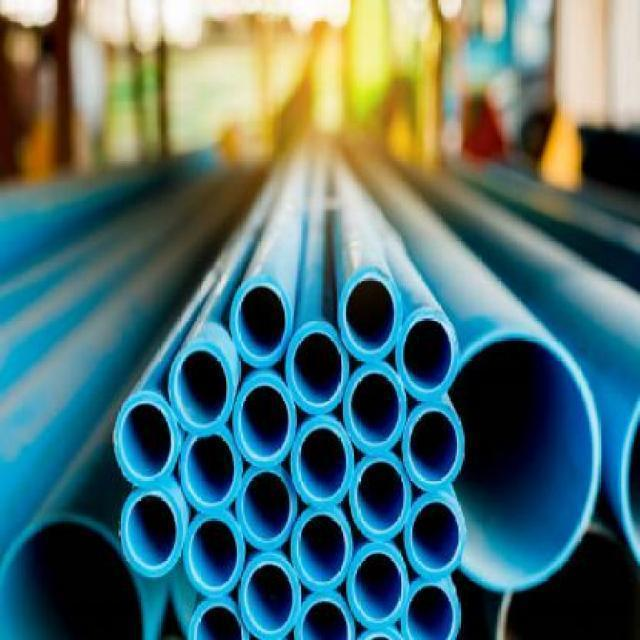pipe: (451, 333, 602, 592), (120, 484, 188, 579), (114, 391, 181, 486), (233, 371, 296, 466), (230, 275, 294, 368), (286, 322, 350, 414), (344, 363, 407, 454), (397, 308, 458, 400), (291, 416, 354, 505), (350, 454, 412, 542), (239, 554, 301, 640), (404, 404, 465, 491), (183, 512, 245, 596), (292, 507, 353, 592), (179, 429, 242, 511), (348, 544, 409, 628), (236, 468, 297, 551), (405, 493, 466, 576), (402, 580, 461, 640), (346, 279, 395, 350), (182, 352, 226, 420)
